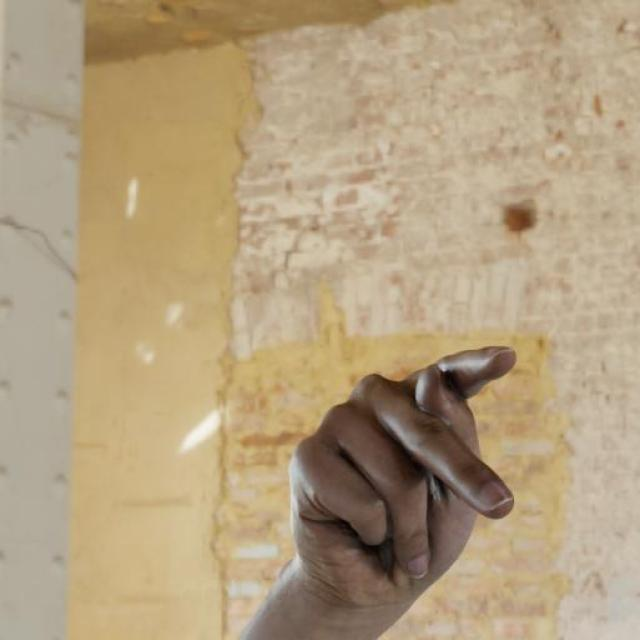P: (277, 341, 521, 615)
